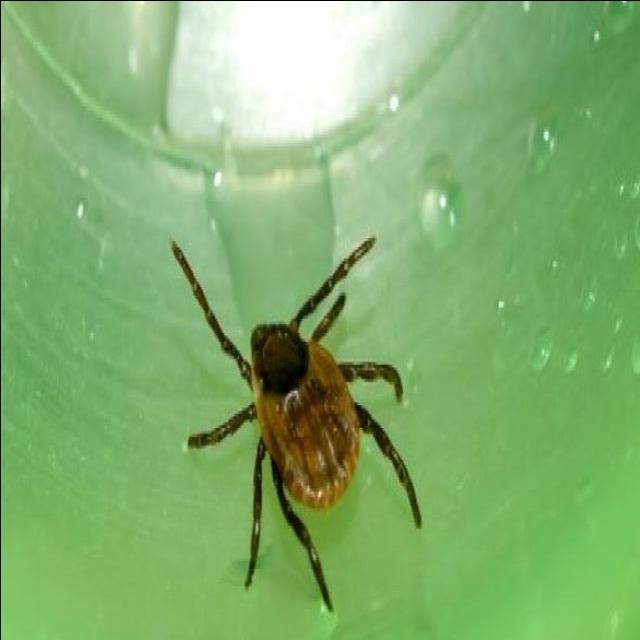Rhipicephalus Sanguineus-F: (171, 237, 419, 611)
